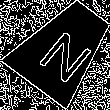N_NE: (30, 16, 97, 81)
